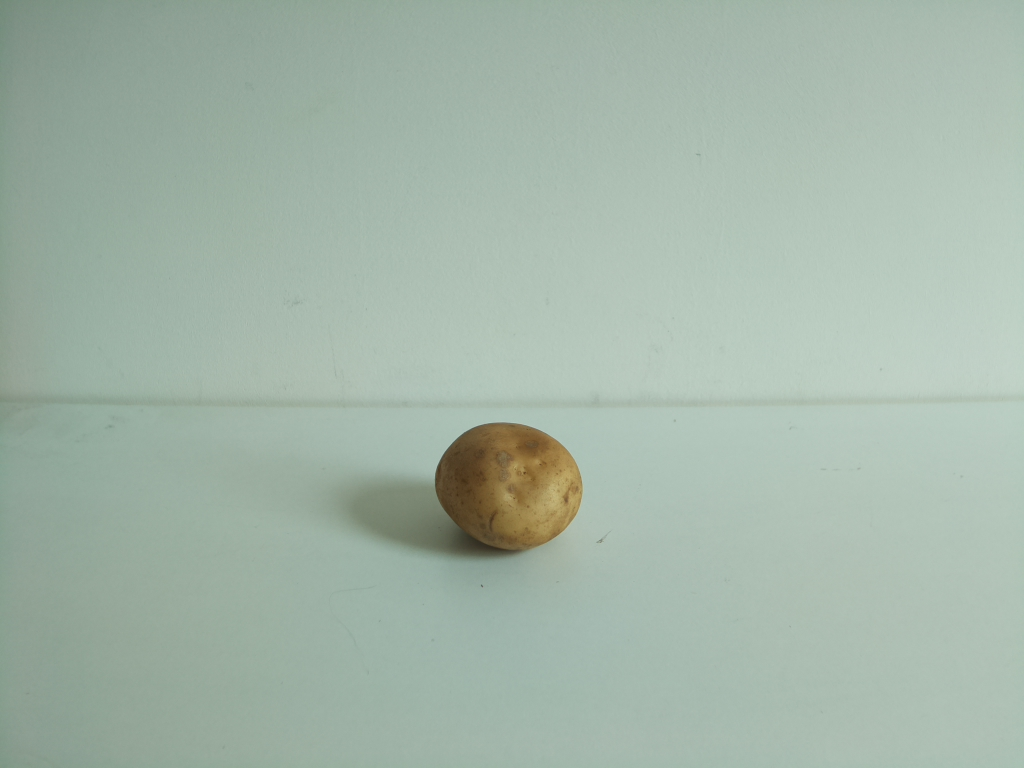potatoes: (436, 421, 582, 552)
